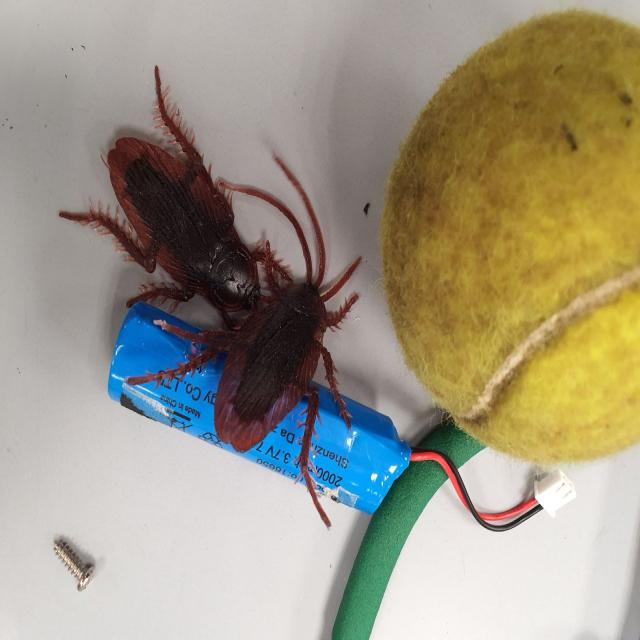Cockroach: (122, 139, 374, 522), (59, 56, 287, 347)
